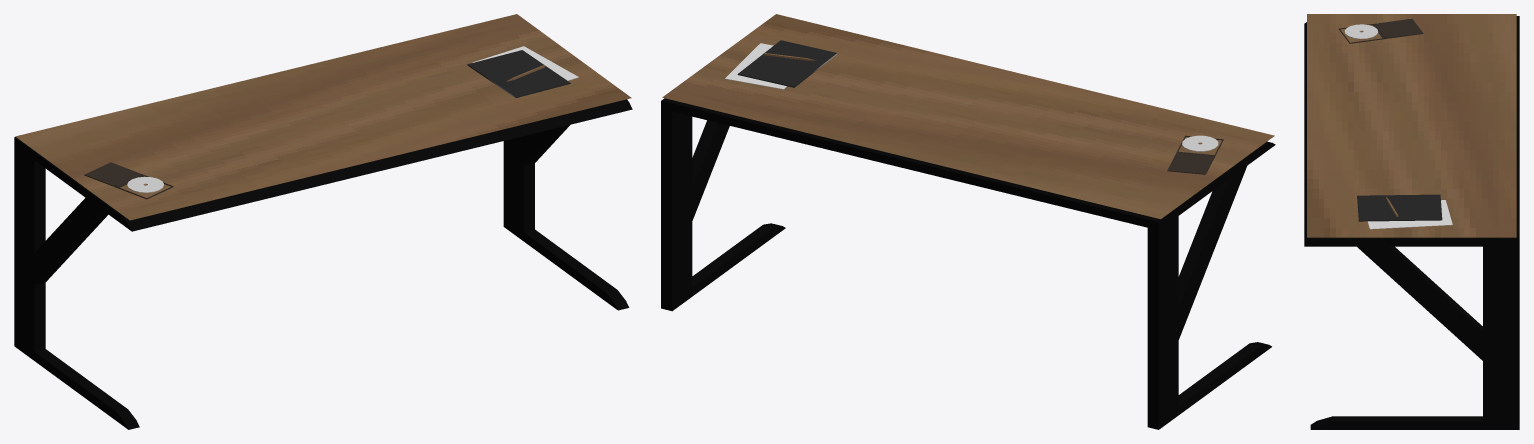
The model's file is desk2.glb.
3 views of the same model, side by side, from view 1: azimuth 30°, elevation 25°; view 2: azimuth 150°, elevation 25°; view 3: azimuth 270°, elevation 25° (orthographic). The views are drawn at different scales.
Parts seen in each view (by area): view 1: Plane, Office_desk, Paper2, CD_case; view 2: Plane, Office_desk, Paper2, CD_case, Paper; view 3: Plane, Office_desk, Paper2, CD_case, Paper, CD.
Boxes of the visible parts, bbox=[...] form: Plane: bbox=[15, 14, 631, 220]; Office_desk: bbox=[14, 99, 632, 429]; Paper2: bbox=[467, 50, 570, 98]; CD_case: bbox=[84, 162, 173, 199]; Plane: bbox=[662, 14, 1274, 219]; Office_desk: bbox=[661, 98, 1275, 429]; Paper2: bbox=[737, 40, 837, 87]; CD_case: bbox=[1167, 135, 1223, 174]; Paper: bbox=[725, 43, 786, 89]; Plane: bbox=[1307, 14, 1516, 237]; Office_desk: bbox=[1304, 16, 1519, 429]; Paper2: bbox=[1357, 194, 1442, 221]; CD_case: bbox=[1339, 18, 1423, 43]; Paper: bbox=[1367, 200, 1452, 229]; CD: bbox=[1344, 24, 1378, 38].
Bounding box in the file's own units: 188 × 77.65 × 76.47.
Materials: 4 (3 with a texture image).
